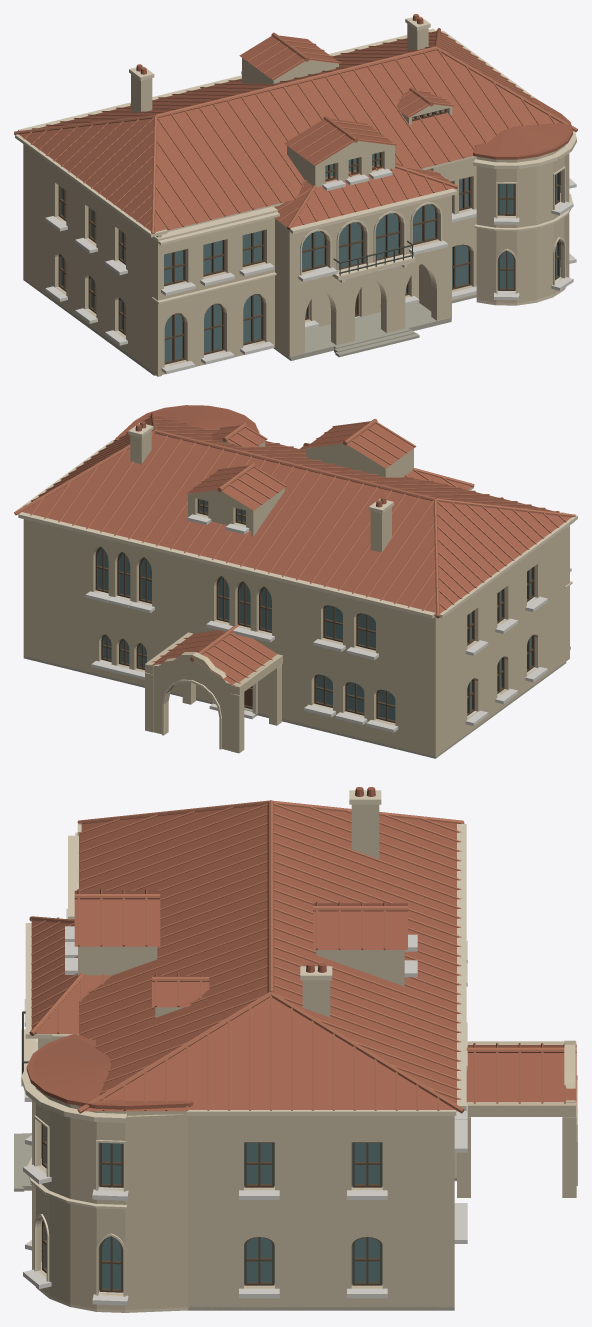
The model's file is changning-sun-ke-villa-lod.glb.
3 renders of one model, top to bottom at view 1: azimuth 30°, elevation 25°; view 2: azimuth 150°, elevation 25°; view 3: azimuth 270°, elevation 25°, orthographic. The views are drawn at different scales.
Visible parts, largest first — view 1: 孙科别墅主楼（南花园敞廊与北门廊）; view 2: 孙科别墅主楼（南花园敞廊与北门廊）; view 3: 孙科别墅主楼（南花园敞廊与北门廊）.
Boxes of the visible parts, <box> form: 孙科别墅主楼（南花园敞廊与北门廊）: <box>14,14,577,376</box>; 孙科别墅主楼（南花园敞廊与北门廊）: <box>14,405,577,758</box>; 孙科别墅主楼（南花园敞廊与北门廊）: <box>14,787,577,1312</box>.
Bounding box in the file's own units: 21.31 × 10.19 × 17.25.
